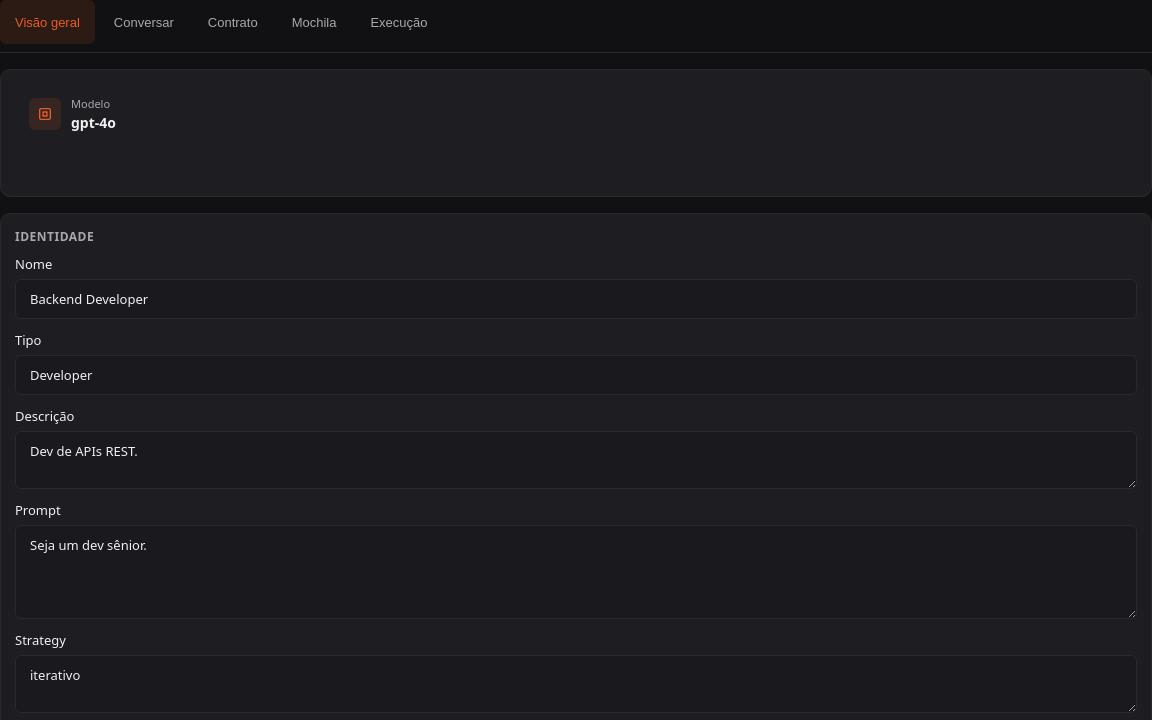
Test case: AgentDetail › shows the skill name, not its id, on the backpack chip (E3)
This screenshot has width=1152, height=720.
Click the tab "Mochila". click: [314, 22]
box: [277,0,352,44]
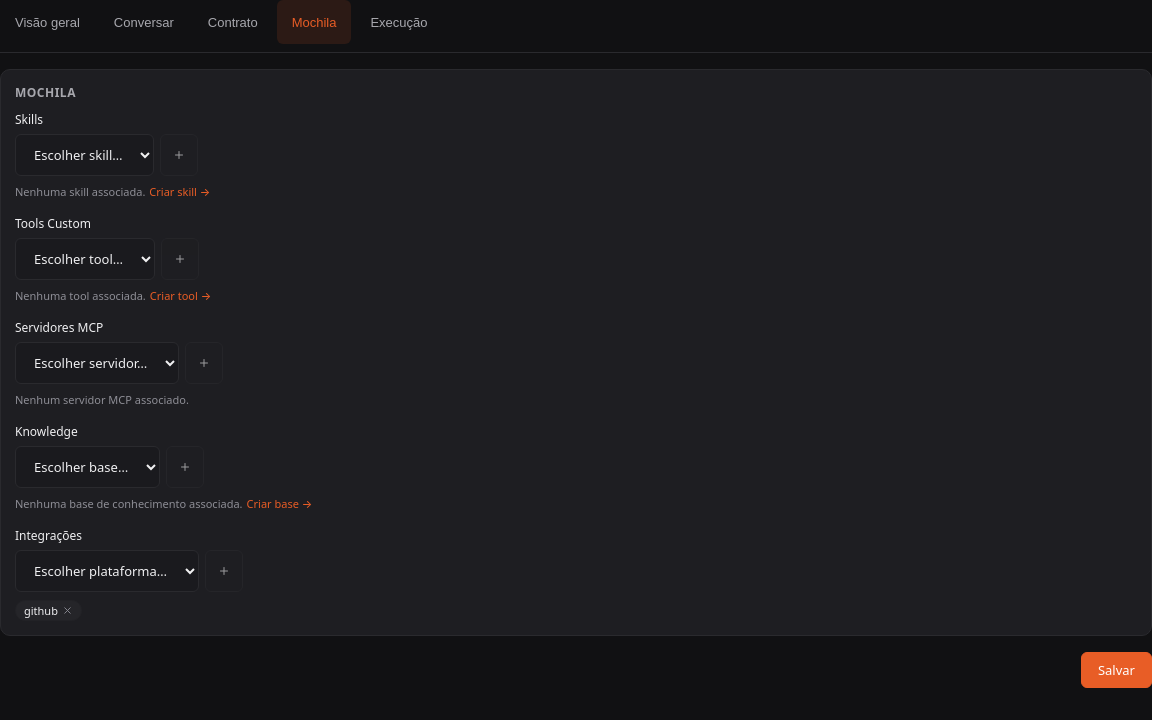
Select "test-runner" in the dropdown named "Selecionar skill". click: [84, 155]
box: [15,134,154,176]
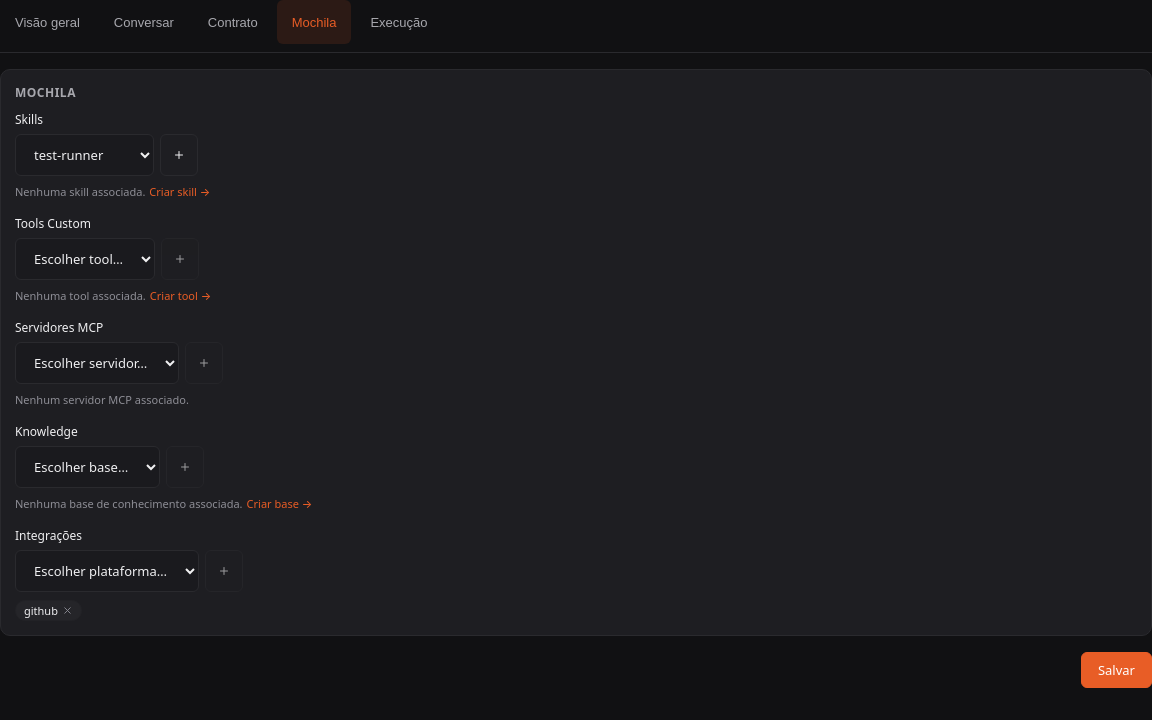
Click the button named "Adicionar skill". click: [179, 155]
box: [160,134,198,176]
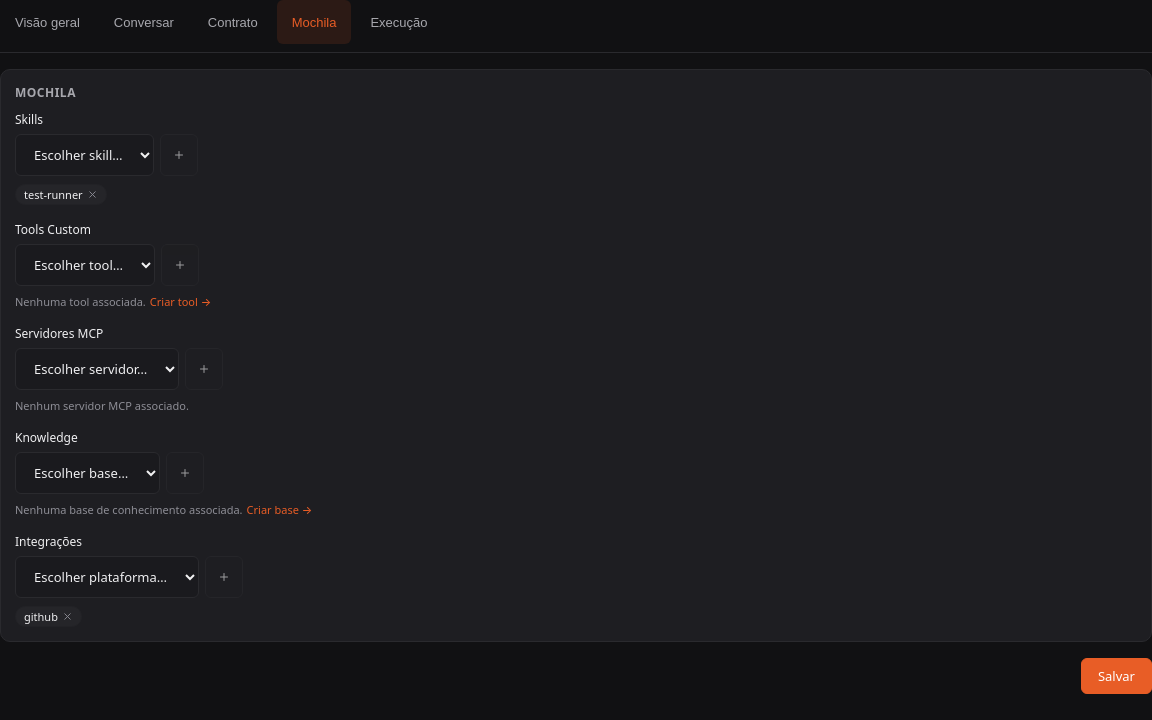
Now the button named "Remover test-runner" is shown, box [87,189,98,200]
